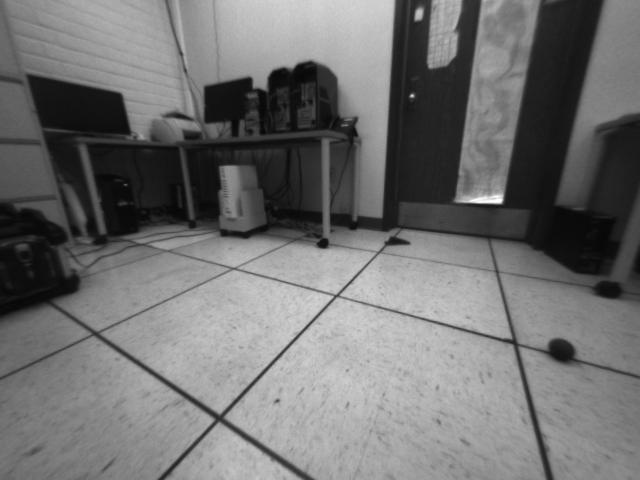dogtoy: (538, 332, 589, 369)
